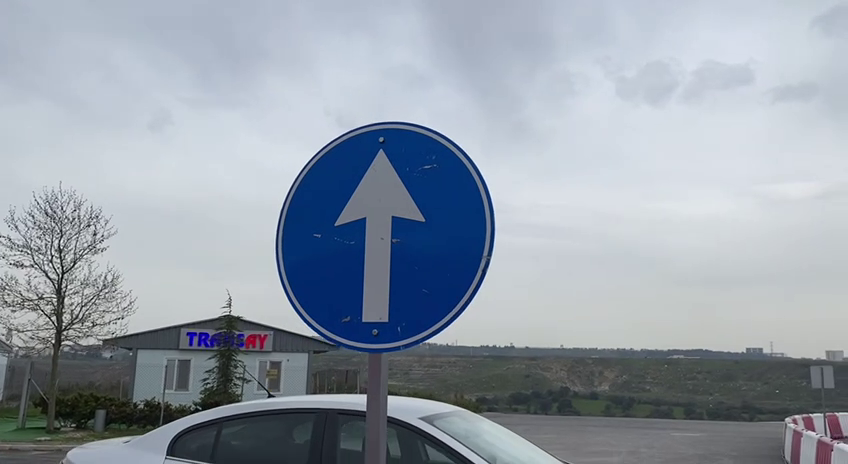forward: (261, 112, 503, 361)
